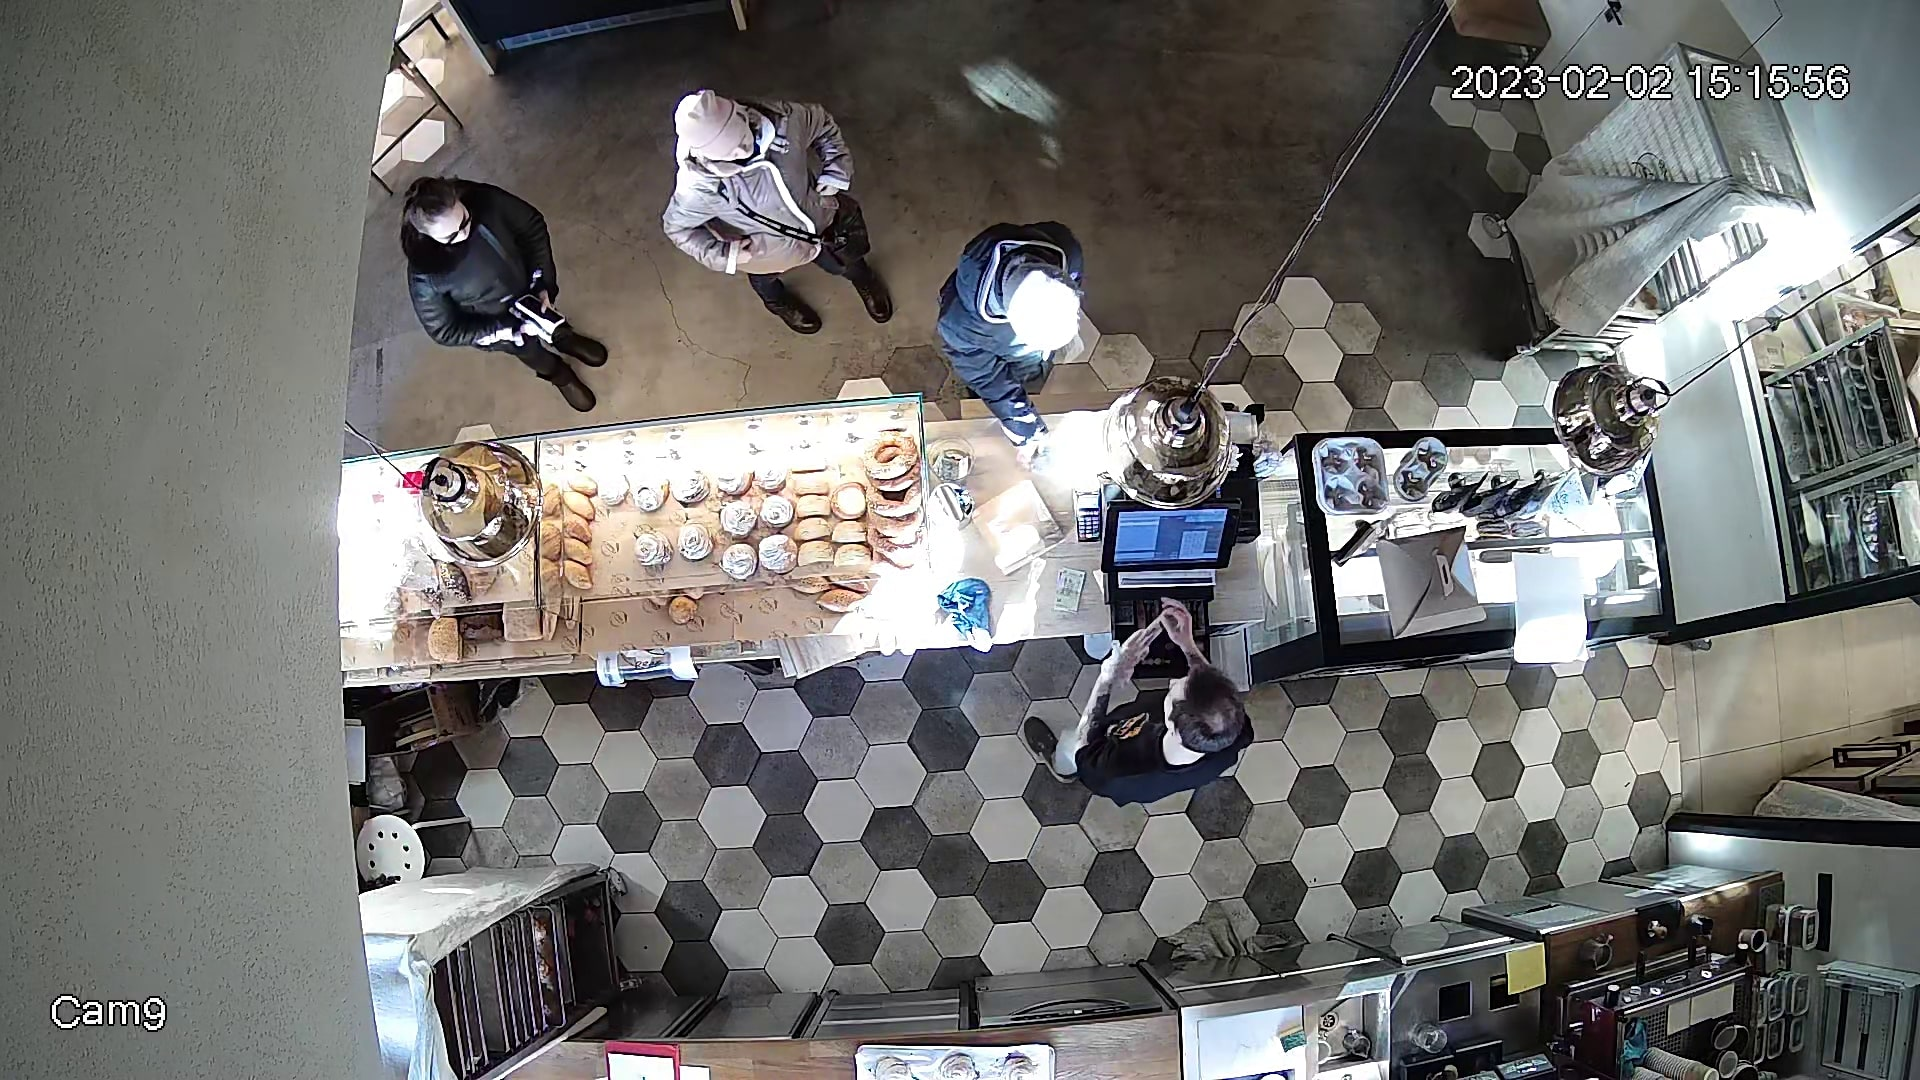barcounter: (359, 432, 1693, 698)
openedcash: (1098, 500, 1246, 678)
pack: (970, 483, 1070, 575)
person: (376, 177, 637, 412), (651, 90, 902, 328), (913, 219, 1084, 425), (1039, 656, 1254, 801)
